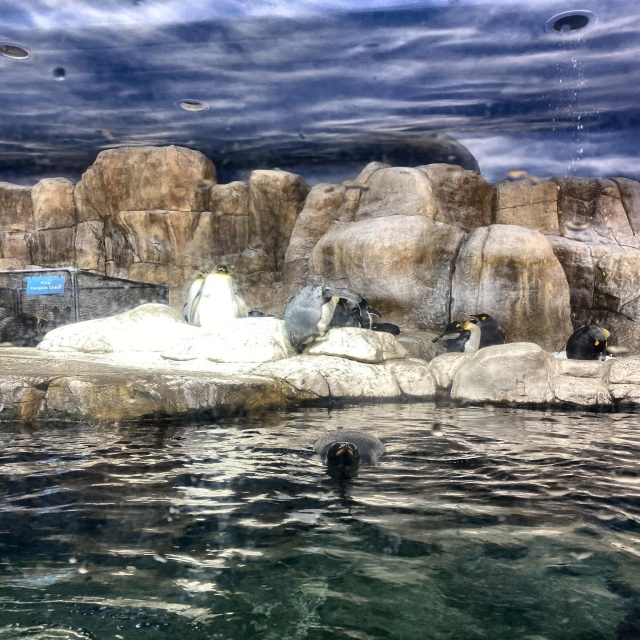penguin: (274, 285, 362, 355), (190, 265, 249, 327), (315, 427, 387, 473), (555, 324, 610, 362), (182, 267, 210, 327), (431, 321, 480, 355), (470, 314, 508, 350)
